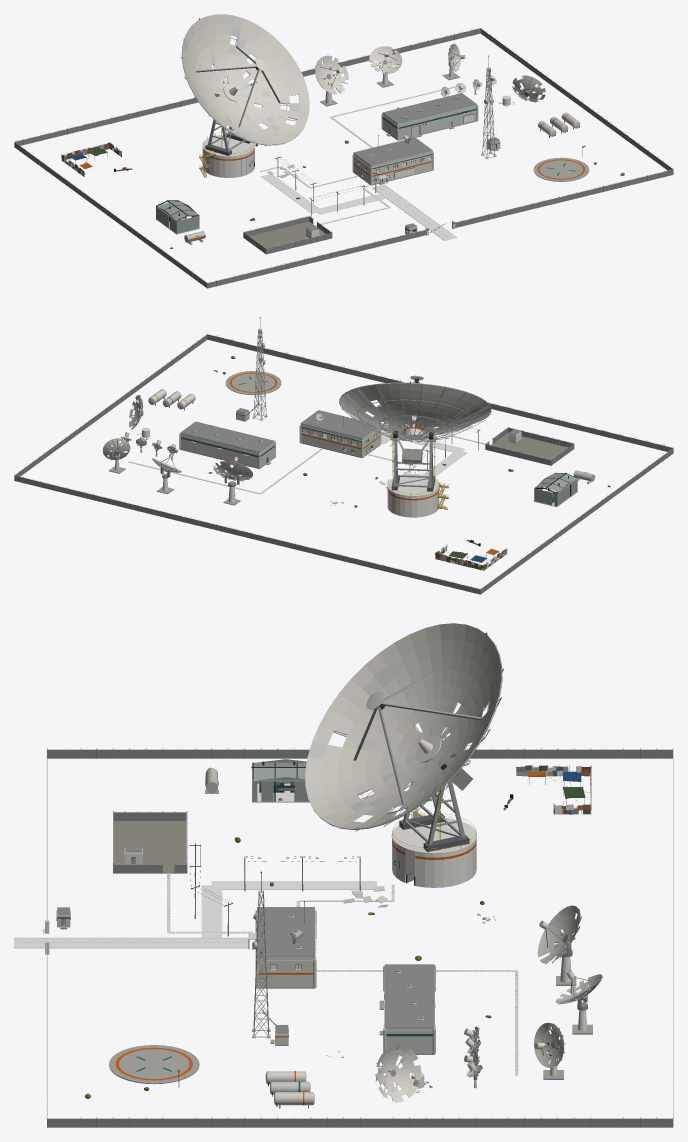
File: uplink-array.glb
3 views of the same model, one above another, from view 1: azimuth 30°, elevation 25°; view 2: azimuth 150°, elevation 25°; view 3: azimuth 270°, elevation 25° (orthographic). The views are drawn at different scales.
Parts seen in each view (by area): view 1: C-1_0_lod0, C0_1_lod0, C-2_-2_lod0, C0_0_lod0, C1_-2_lod0, C0_-1_lod0, C1_0_lod0, C-1_-1_lod0, C-2_-1_lod0, C1_-1_lod0, C-3_0_lod0, C2_0_lod0 (+5 smaller); view 2: C-1_0_lod0, C0_1_lod0, C0_0_lod0, C-2_-2_lod0, C0_-1_lod0, C1_-2_lod0, C-2_0_lod0, C1_0_lod0, C-2_-1_lod0, C1_-1_lod0, C-1_-1_lod0, C-3_0_lod0 (+3 smaller); view 3: C-1_0_lod0, C2_0_lod0, C1_0_lod0, C0_-1_lod0, C-3_0_lod0, C-2_-2_lod0, C0_0_lod0, C-1_-1_lod0, C1_-2_lod0, C1_-1_lod0, C0_-2_lod0, C-2_-1_lod0 (+5 smaller).
Part boxes in pixels (left/top/right/bottom): C-1_0_lod0: left=181, top=14, right=309, bottom=177; C0_1_lod0: left=15, top=28, right=480, bottom=145; C-2_-2_lod0: left=207, top=221, right=426, bottom=288; C0_0_lod0: left=321, top=68, right=477, bottom=147; C1_-2_lod0: left=455, top=157, right=673, bottom=227; C0_-1_lod0: left=353, top=134, right=433, bottom=201; C1_0_lod0: left=400, top=44, right=545, bottom=129; C-1_-1_lod0: left=261, top=153, right=390, bottom=225; C-2_-1_lod0: left=156, top=200, right=309, bottom=244; C1_-1_lod0: left=481, top=55, right=585, bottom=168; C-3_0_lod0: left=14, top=142, right=207, bottom=287; C2_0_lod0: left=480, top=28, right=673, bottom=170; C-1_0_lod0: left=330, top=375, right=491, bottom=517; C0_1_lod0: left=14, top=458, right=480, bottom=594; C0_0_lod0: left=180, top=421, right=309, bottom=494; C-2_-2_lod0: left=489, top=403, right=673, bottom=465; C0_-1_lod0: left=299, top=410, right=389, bottom=458; C1_-2_lod0: left=207, top=334, right=408, bottom=394; C-2_0_lod0: left=414, top=386, right=506, bottom=562; C1_0_lod0: left=102, top=395, right=218, bottom=477; C-2_-1_lod0: left=451, top=414, right=595, bottom=507; C1_-1_lod0: left=148, top=317, right=267, bottom=425; C-1_-1_lod0: left=355, top=418, right=492, bottom=476; C-3_0_lod0: left=480, top=448, right=673, bottom=594; C-1_0_lod0: left=305, top=623, right=504, bottom=923; C2_0_lod0: left=47, top=1117, right=672, bottom=1127; C1_0_lod0: left=375, top=1001, right=564, bottom=1102; C0_-1_lod0: left=178, top=901, right=358, bottom=988; C-3_0_lod0: left=47, top=748, right=672, bottom=776; C-2_-2_lod0: left=46, top=749, right=186, bottom=919; C0_0_lod0: left=359, top=920, right=568, bottom=1054; C-1_-1_lod0: left=162, top=843, right=376, bottom=938; C1_-2_lod0: left=46, top=944, right=199, bottom=1117; C1_-1_lod0: left=162, top=871, right=343, bottom=1108; C0_-2_lod0: left=14, top=932, right=248, bottom=1013; C-2_-1_lod0: left=162, top=734, right=344, bottom=862.
Size of what is drawn, in the model's own units: 212 by 61.06 by 160.
